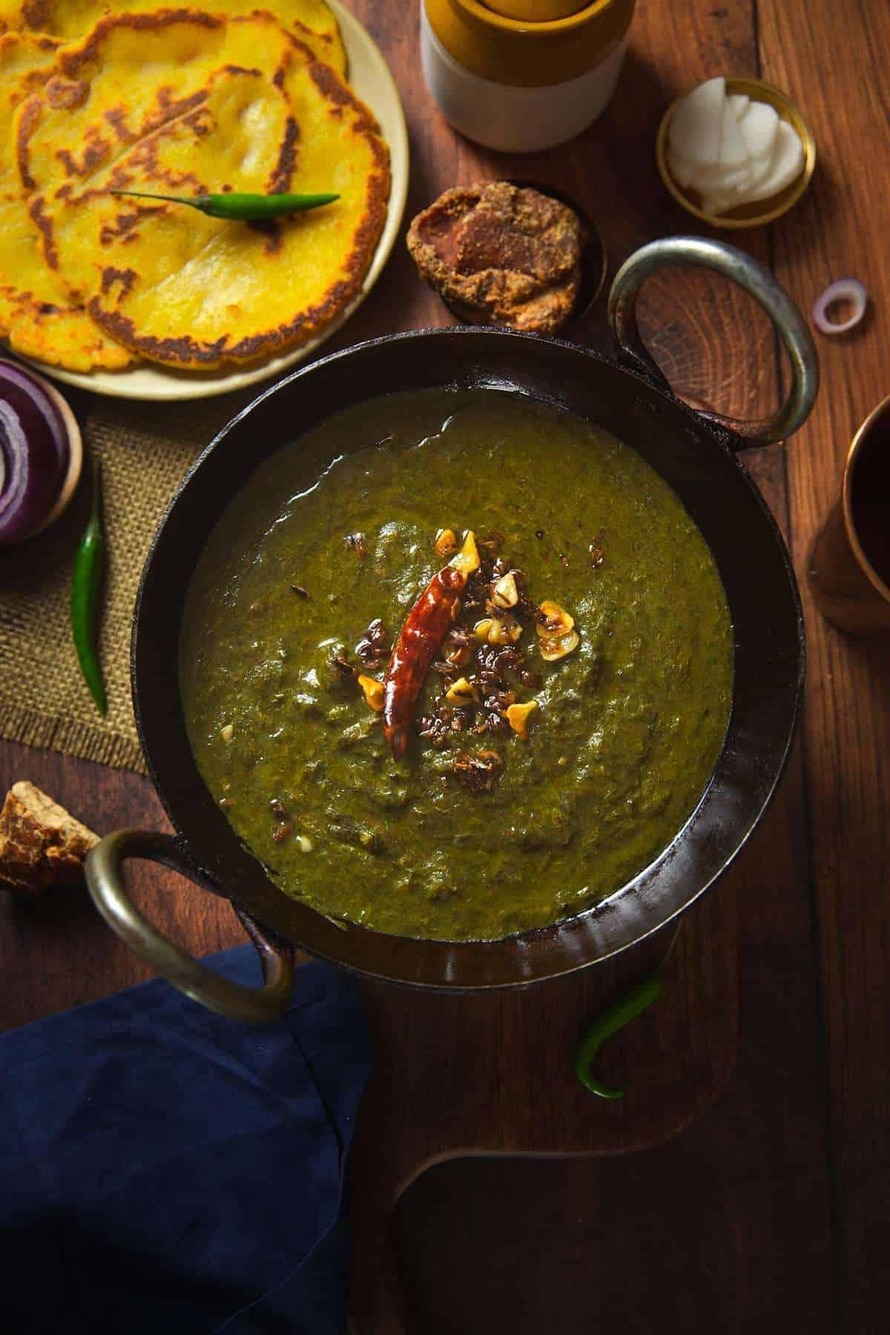saag: (183, 399, 718, 944)
